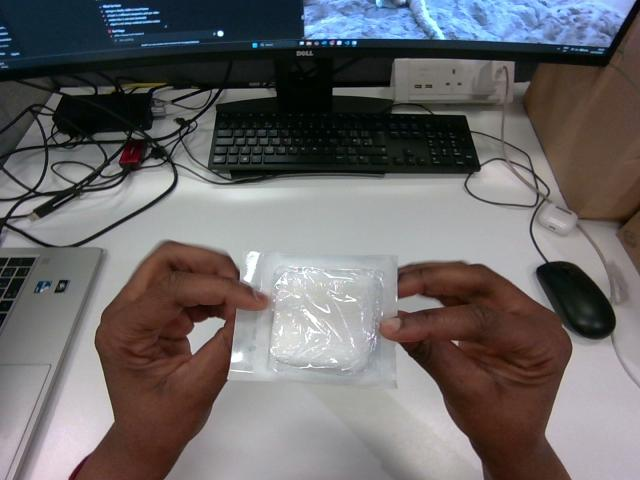gauze: (229, 252, 396, 387)
